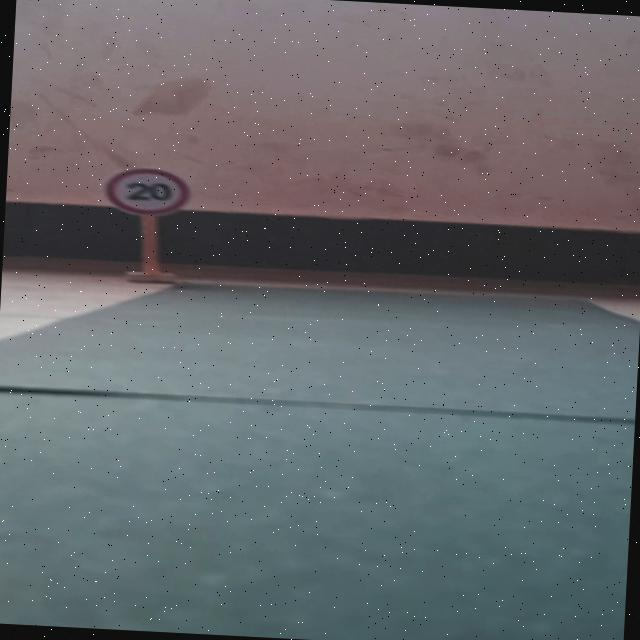Speed20: (101, 165, 196, 219)
